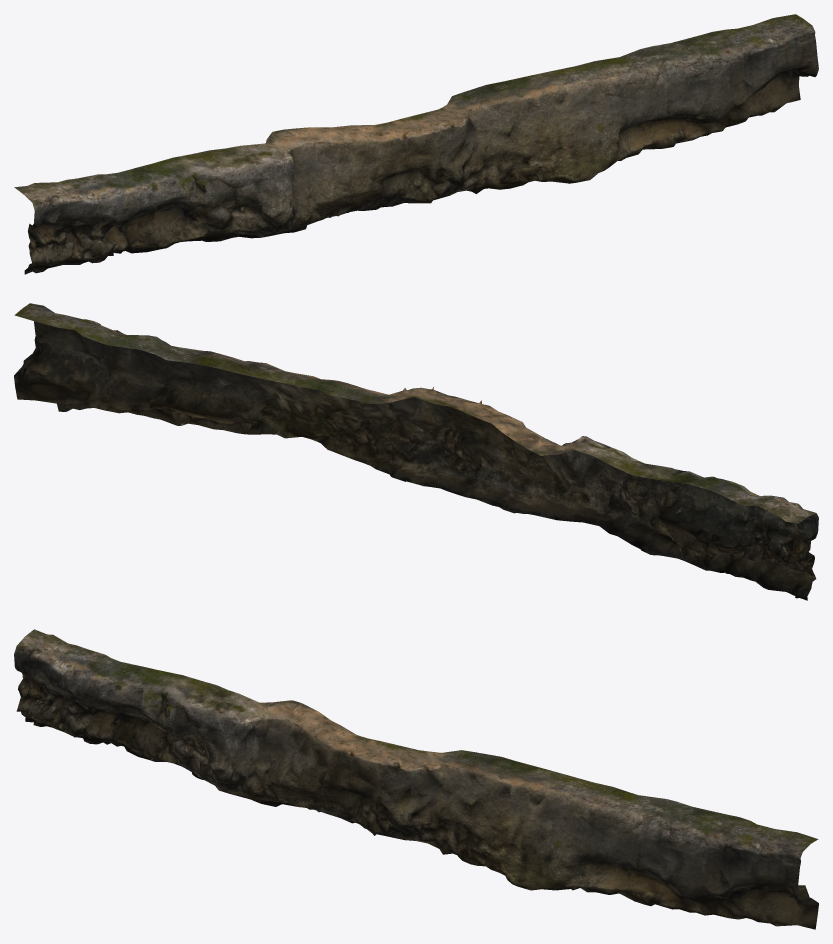
Rendered from cliff.glb.
3 renders of one model, top to bottom at view 1: azimuth 30°, elevation 25°; view 2: azimuth 150°, elevation 25°; view 3: azimuth 330°, elevation 25°, orthographic. The views are drawn at different scales.
Parts seen in each view (by area): view 1: coastal_cliff_01; view 2: coastal_cliff_01; view 3: coastal_cliff_01.
Part boxes in pixels (box(x1,y1,x2,y2)): coastal_cliff_01: box(14, 14, 818, 274); coastal_cliff_01: box(14, 303, 818, 600); coastal_cliff_01: box(14, 629, 818, 929).
Size of the model in its own units: 91.94 by 10.2 by 10.92.
1 material, 1 textured.
